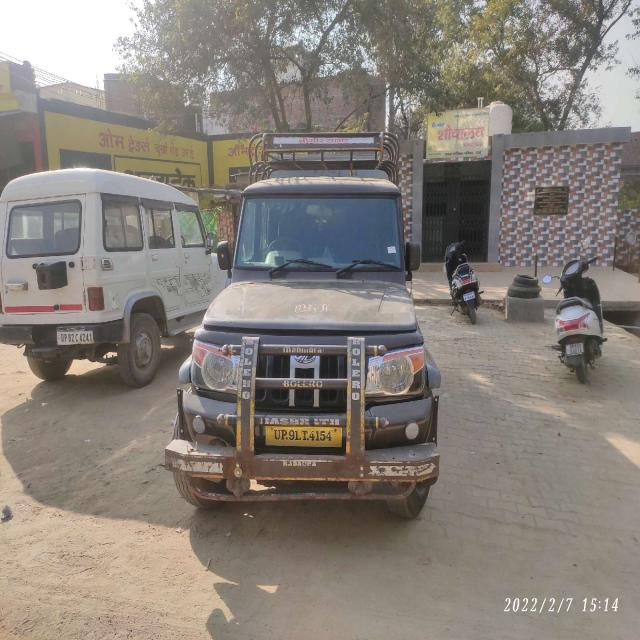light_vehicle: (165, 164, 440, 488)
